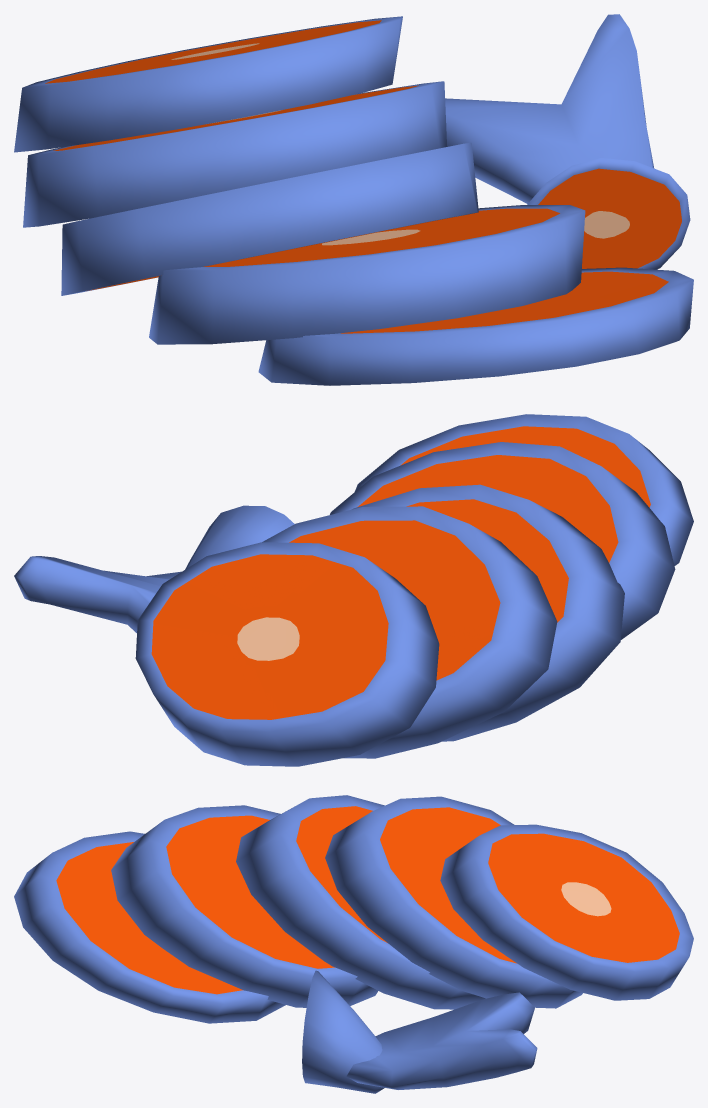
Rendered from SM_Fish_Plate.fbx.
3 views of the same model, one above another, from view 1: azimuth 30°, elevation 25°; view 2: azimuth 150°, elevation 25°; view 3: azimuth 270°, elevation 25° (orthographic). The views are drawn at different scales.
Visible parts, largest first — view 1: Fish_Plate; view 2: Fish_Plate; view 3: Fish_Plate.
Part boxes in pixels (x1=…): Fish_Plate: x1=14, y1=14, x2=693, y2=385; Fish_Plate: x1=14, y1=414, x2=693, y2=766; Fish_Plate: x1=14, y1=795, x2=693, y2=1093.
Size of the model in its own units: 105 by 34.06 by 131.
